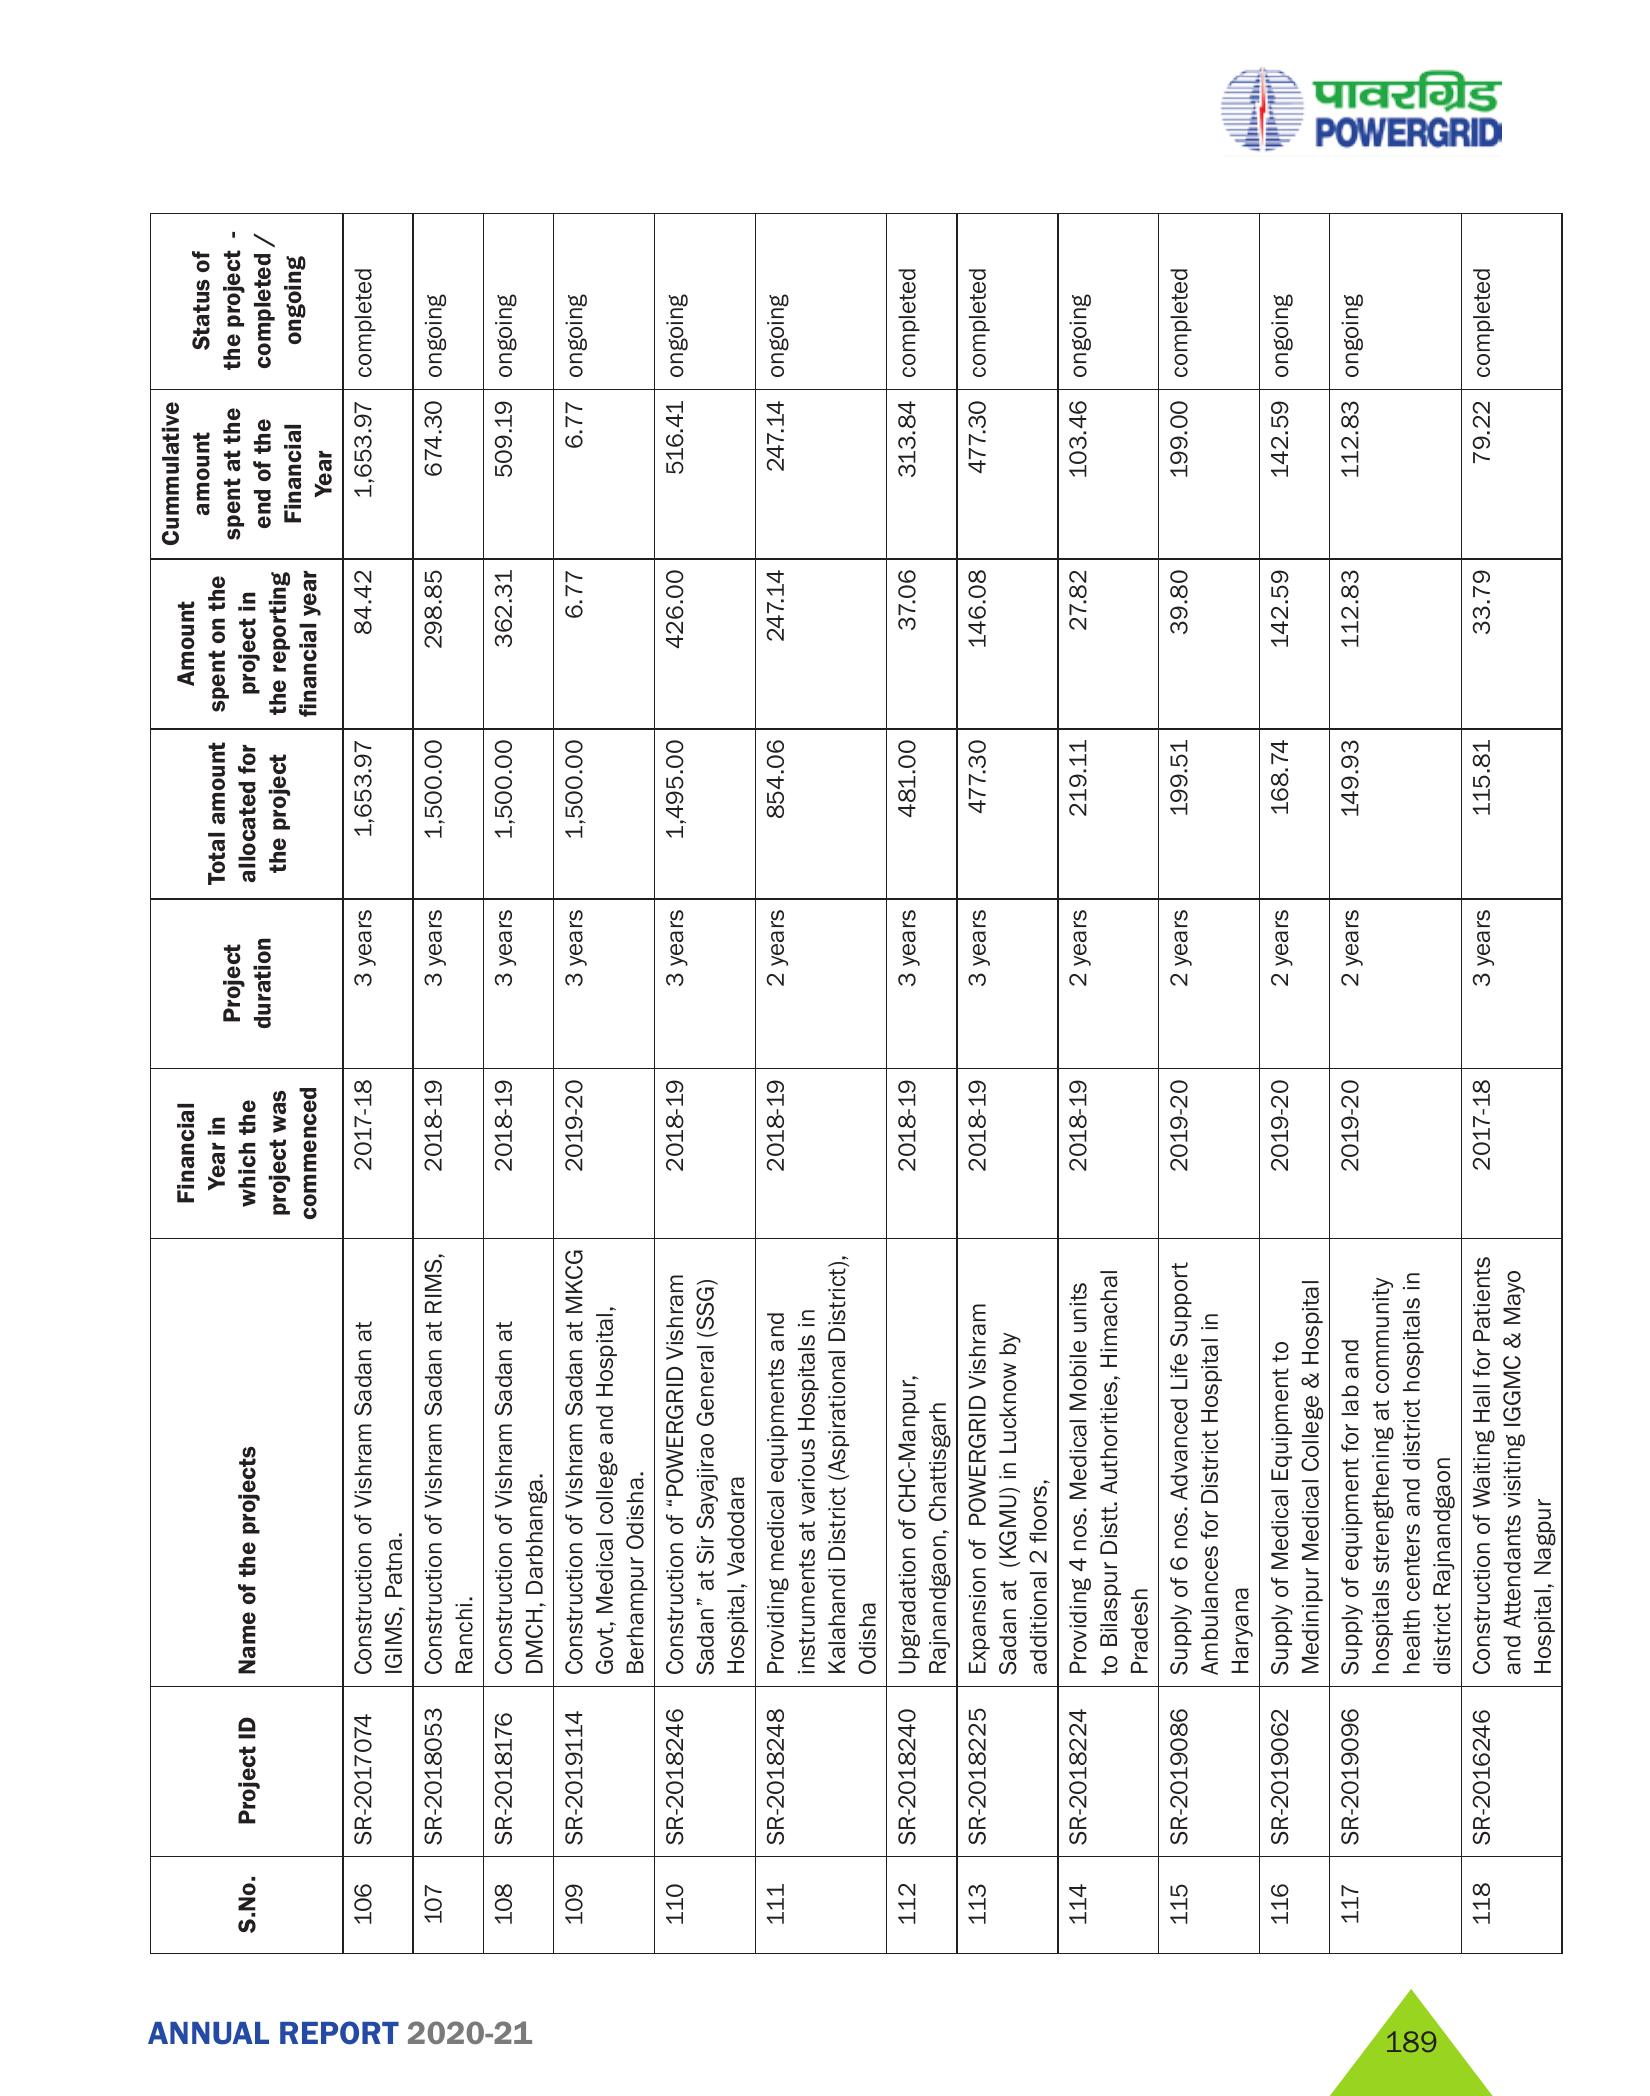Footer: (0, 1965, 1650, 2096)
Header: (0, 0, 1650, 184)
Table: (114, 213, 1585, 1965)
